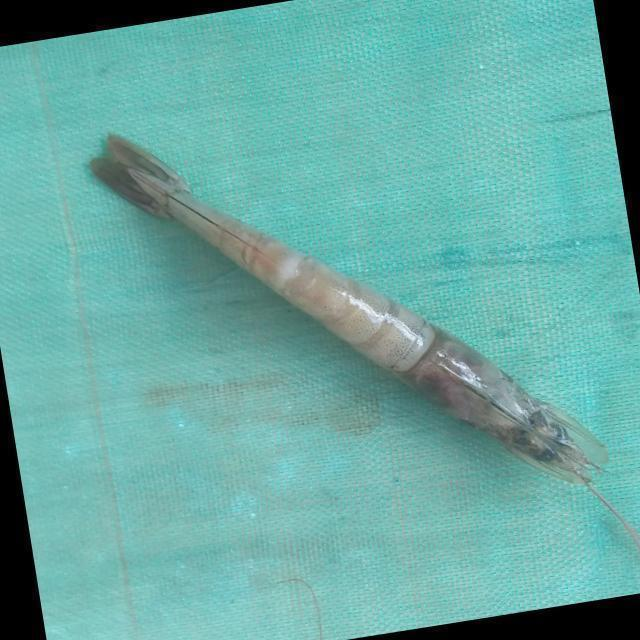shrimp: (90, 136, 609, 486)
